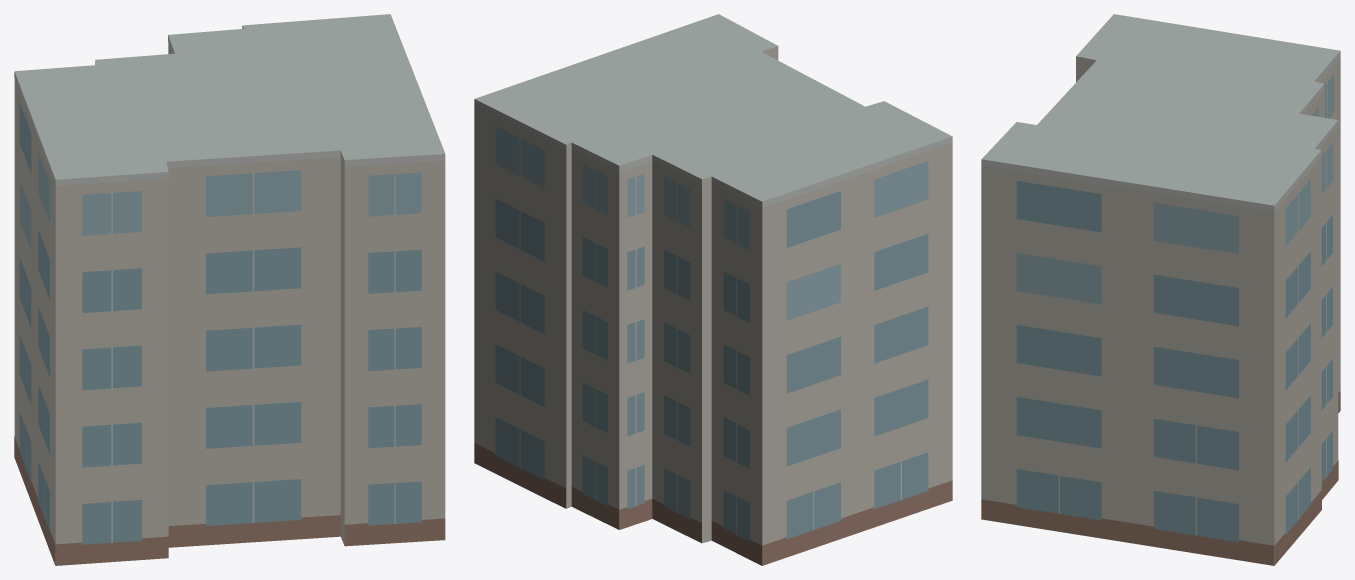
File: survey-upis-32875159.glb
The picture shows the model from 3 angles, left to right: view 1: azimuth 30°, elevation 25°; view 2: azimuth 150°, elevation 25°; view 3: azimuth 270°, elevation 25°; orthographic projection. The views are drawn at different scales.
Visible parts, largest first — view 1: survey-upis-32875159.tmp; view 2: survey-upis-32875159.tmp; view 3: survey-upis-32875159.tmp.
Boxes of the visible parts, x1,y1,x2,y2 form: survey-upis-32875159.tmp: [14, 14, 445, 565]; survey-upis-32875159.tmp: [474, 14, 952, 565]; survey-upis-32875159.tmp: [981, 14, 1340, 565].
Size of the model in its own units: 16.22 by 14.2 by 12.84.
